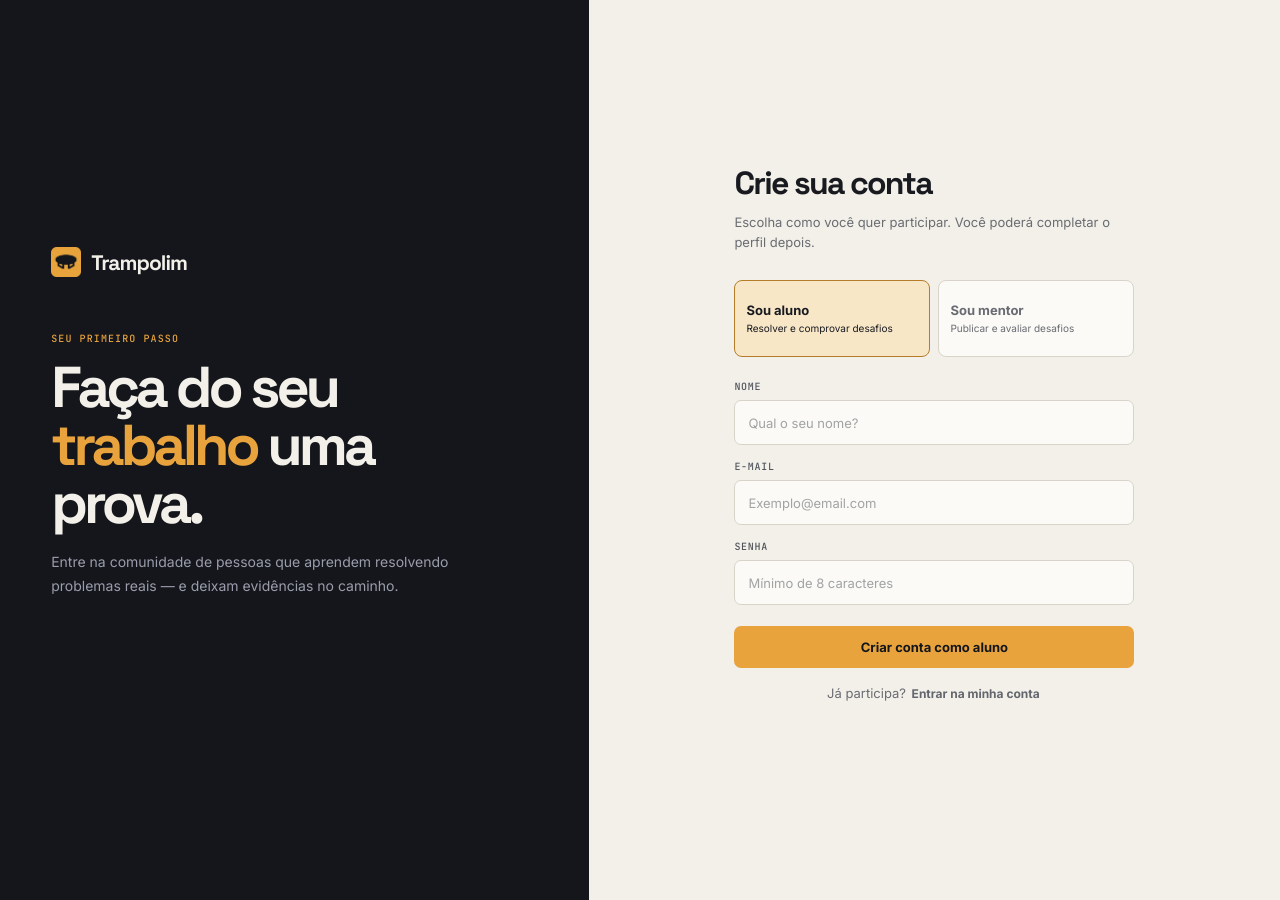
Cadastro › avisa quando o e-mail já existe
Step 1. Type "Ana" into the field labelled "Nome" → (934, 423), box x1=734 y1=400 x2=1134 y2=445
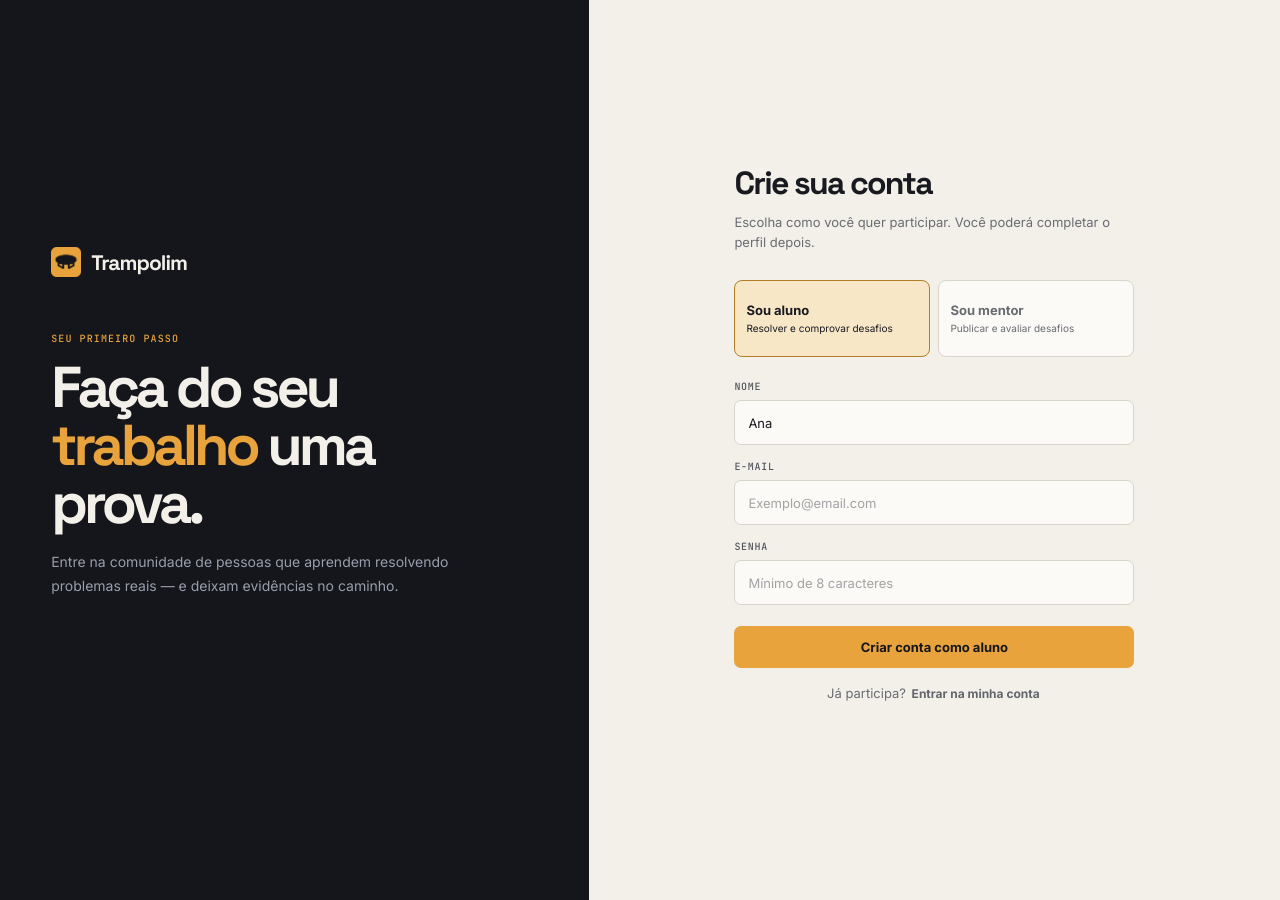
Step 2. Type "ana@trampolim.dev" into the field labelled "E-mail" → (934, 503), box x1=734 y1=480 x2=1134 y2=525
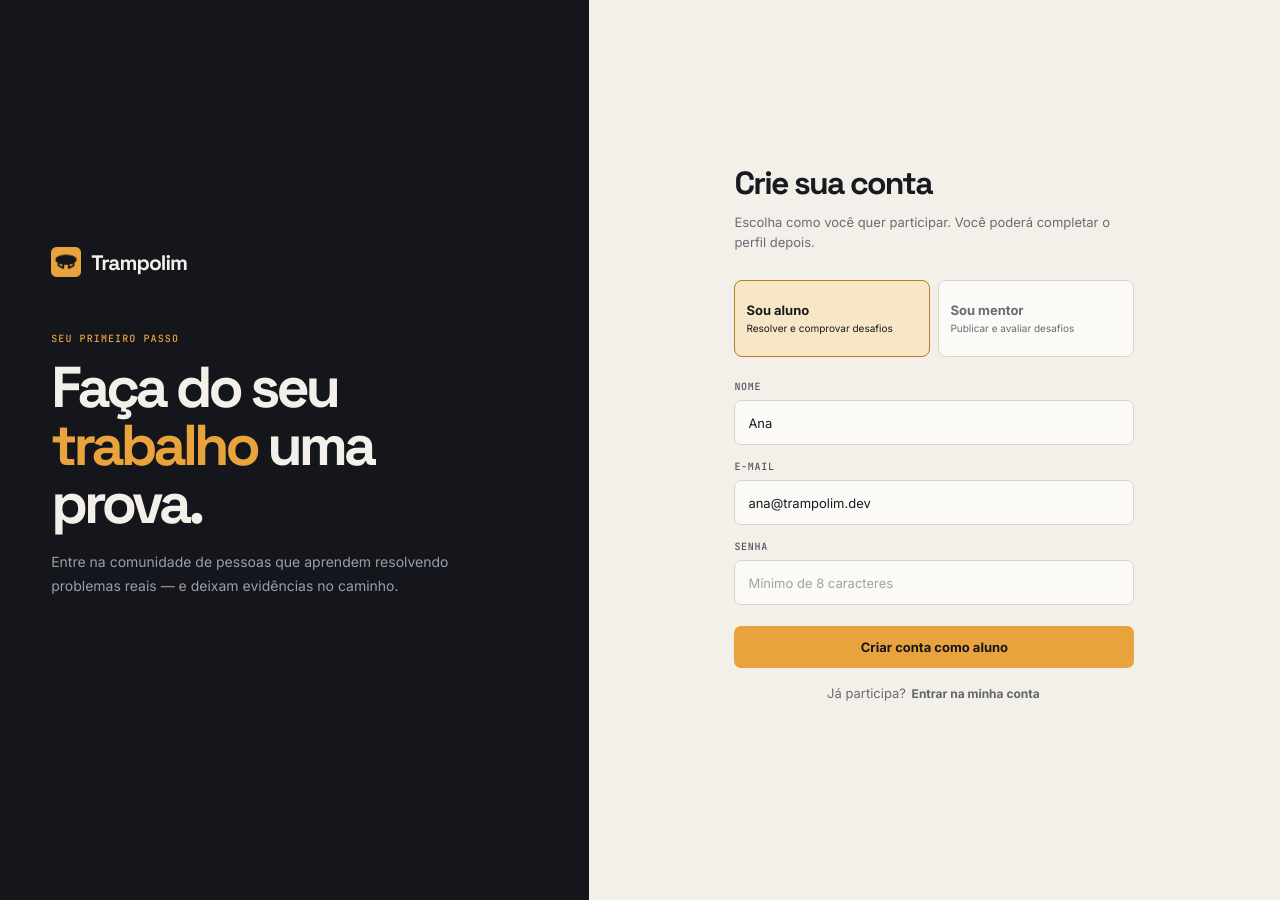
Step 3. Type "senha-forte-123" into the password field labelled "Senha" → (934, 583), box x1=734 y1=560 x2=1134 y2=605
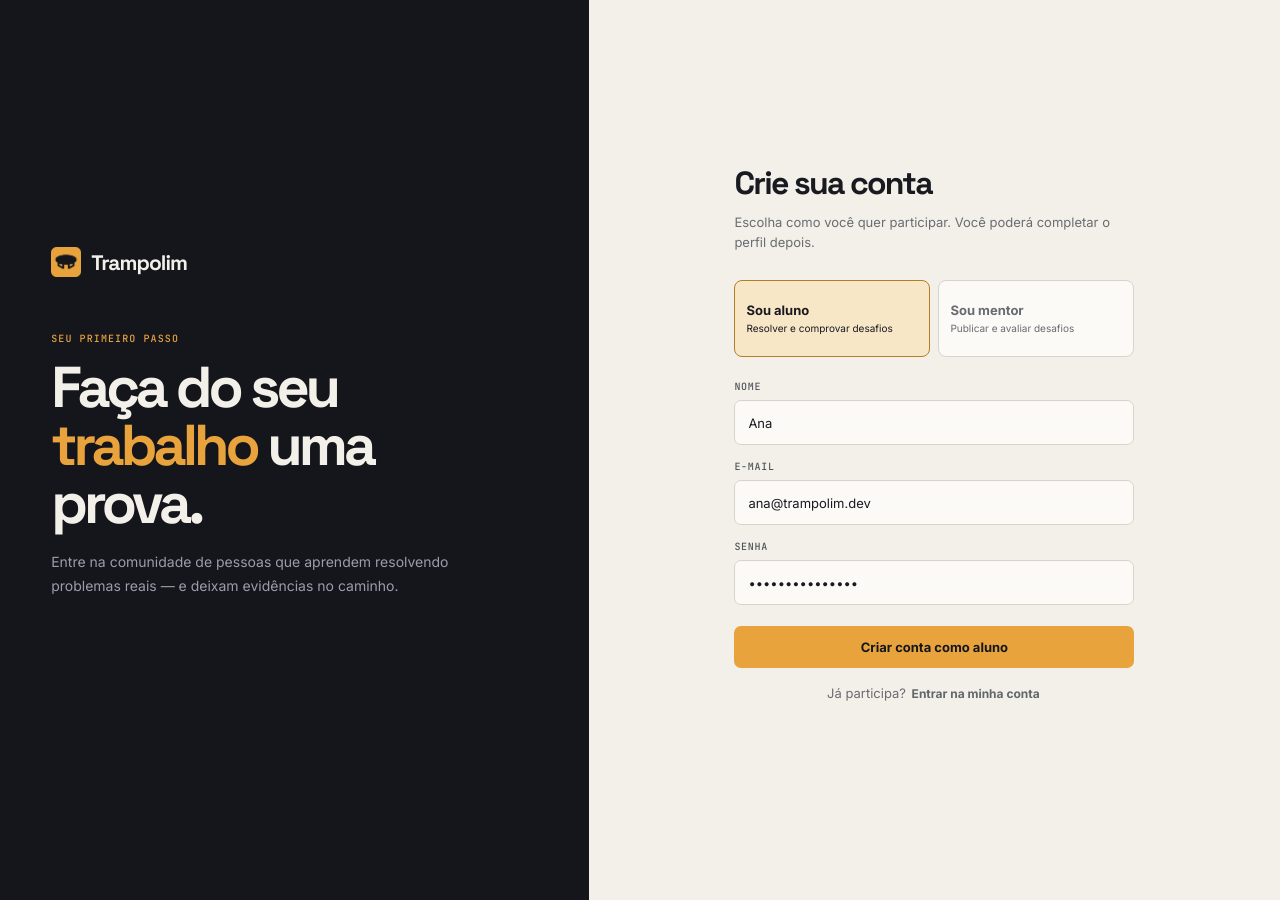
Step 4. Click the button "Criar conta como aluno" → (934, 647), box x1=734 y1=626 x2=1134 y2=668
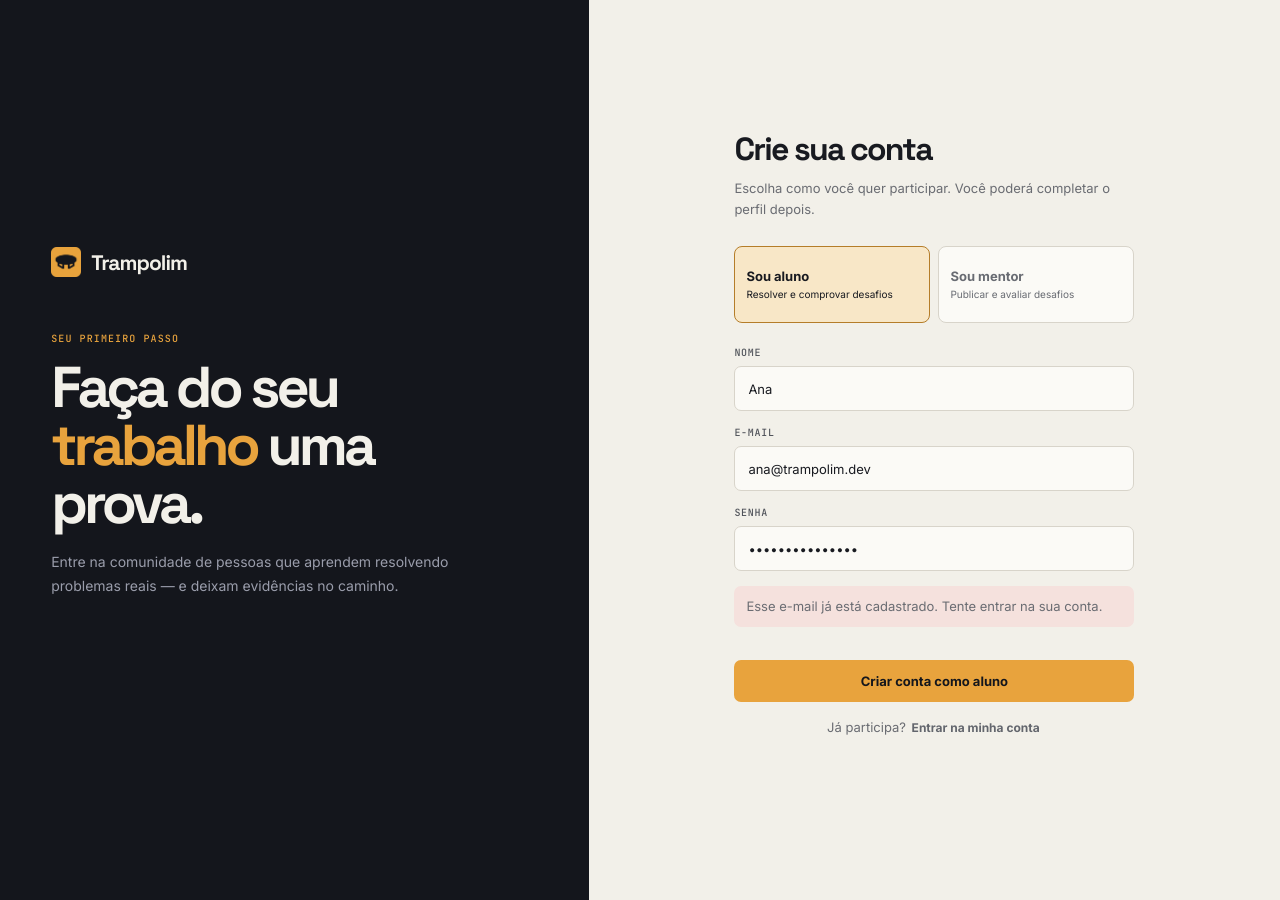
expect the message shows "Esse e-mail já está cadastrado": met, box x1=746 y1=598 x2=1102 y2=614
